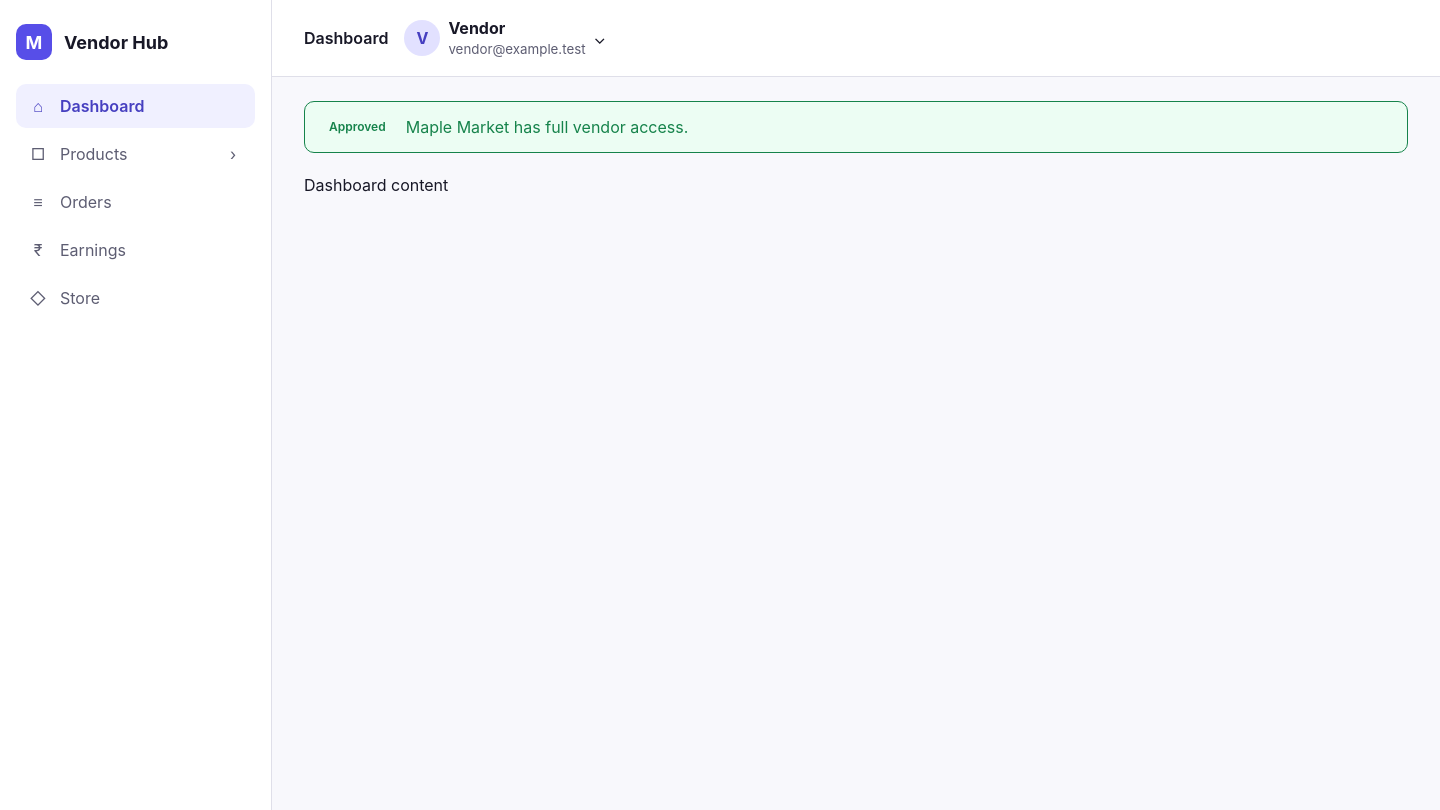
Test: vendor dashboard logout › sends the dashboard CSRF token and surfaces a failed logout
This screenshot has width=1440, height=810.
Click the button named "Vendorvendor@example.test" at (505, 38), box x1=400 y1=12 x2=610 y2=64
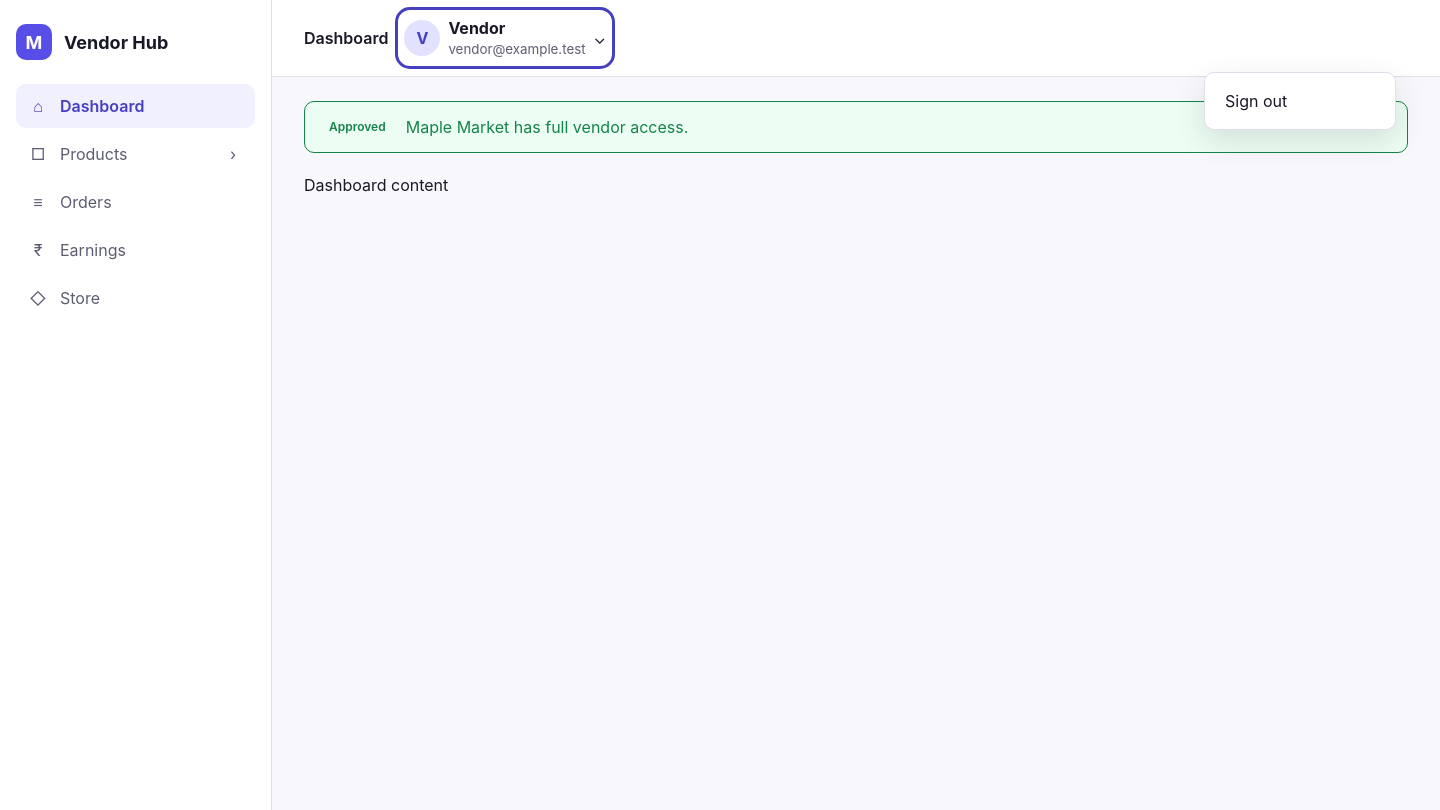
Click the button "Sign out" at (1300, 101), box x1=1213 y1=81 x2=1387 y2=121
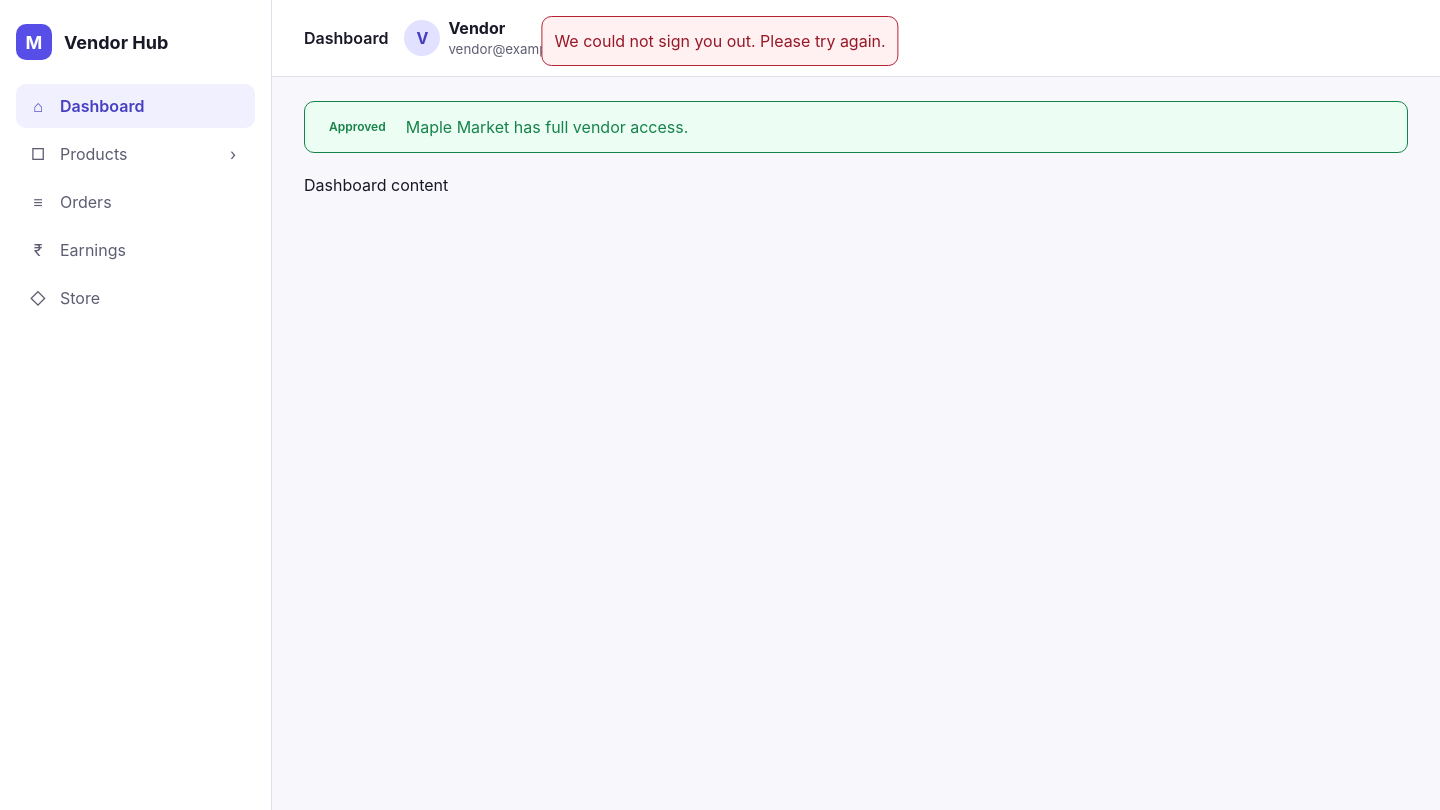
Now the message "We could not sign you out. Please try again." is shown, box x1=541 y1=16 x2=899 y2=66
